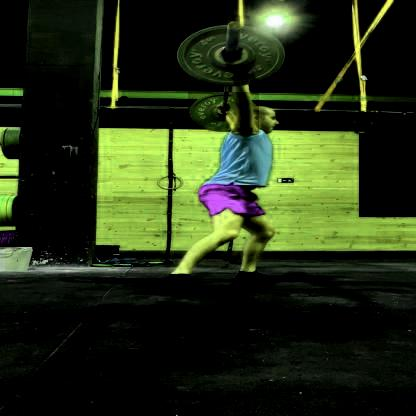barbell: (177, 26, 287, 86), (189, 93, 260, 132)
